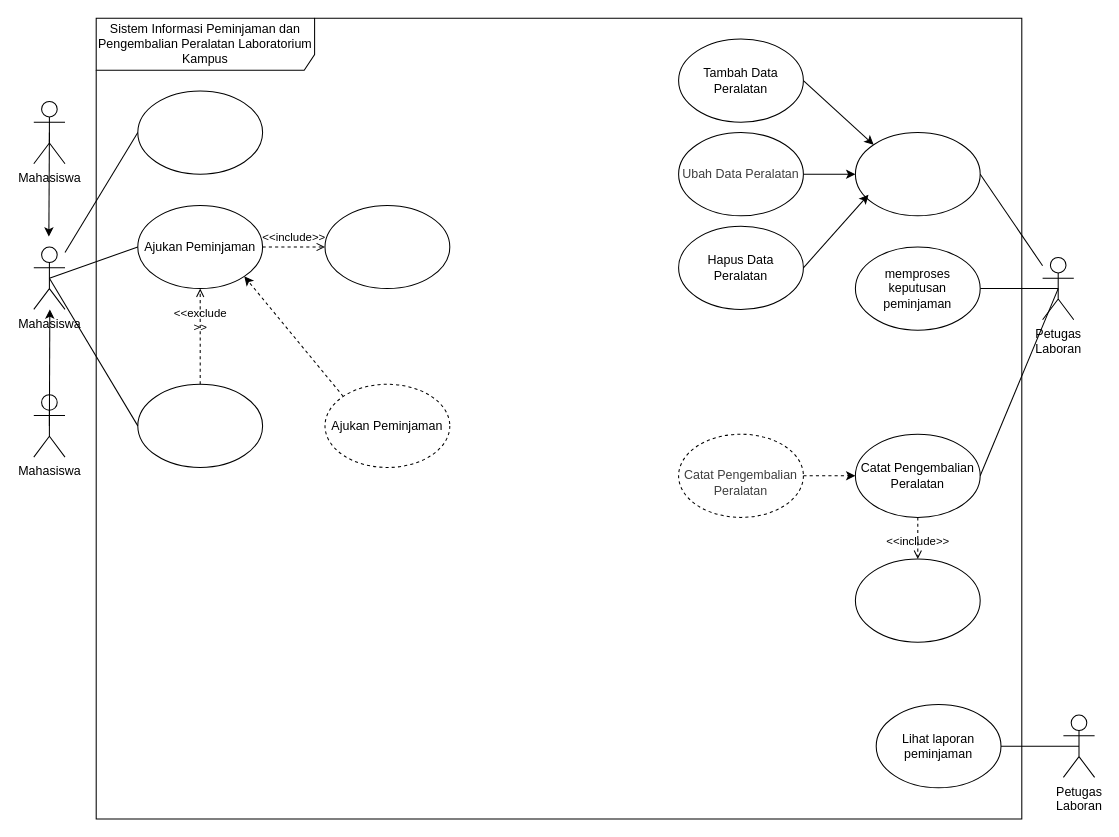
This 1119x837 diagram has some shape labels left out. The box of each missing label's shape, as (x1, y1, x2, y2) in pixels:
cek bukti pengajuan: (137, 383, 263, 467)
Kelola data peralatan: (854, 132, 980, 216)
Lihat ketersediaan peralatan: (137, 90, 263, 174)
Periksa Ketersediaan: (324, 204, 450, 289)
Periksa Kondisi Peralatan: (854, 558, 980, 642)
